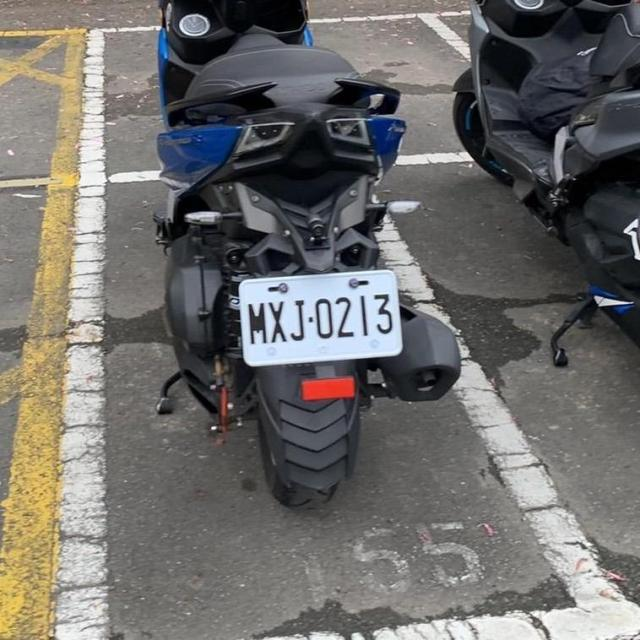W: (234, 265, 405, 370)
